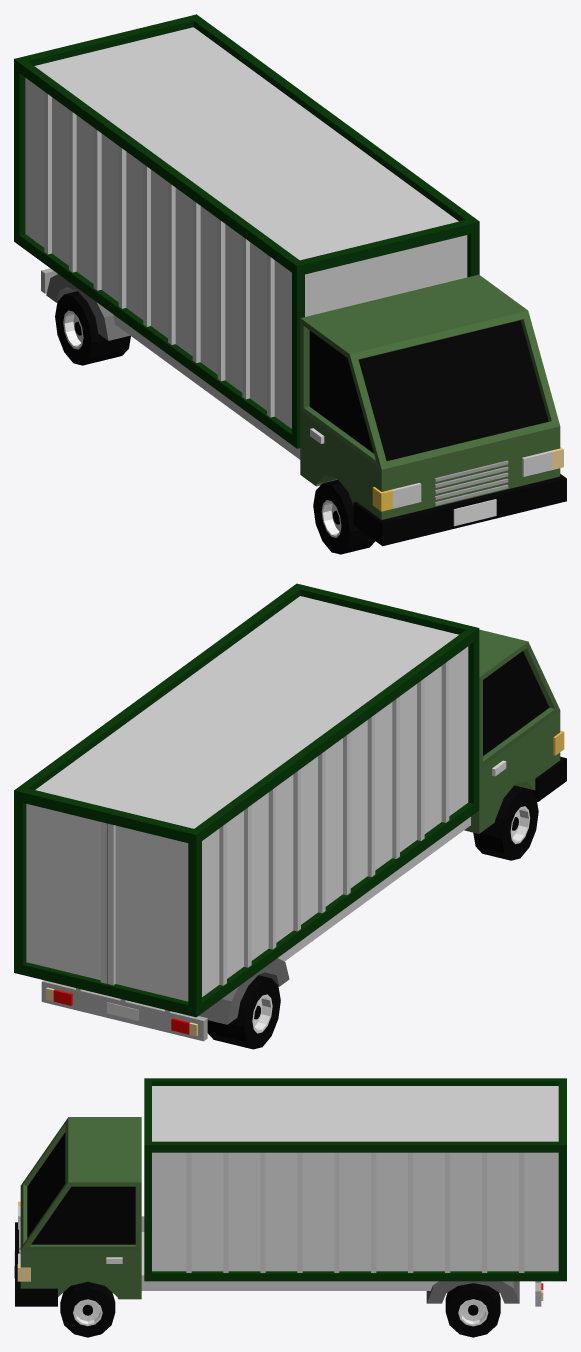
The model's file is Truck-02.fbx.
3 renders of one model, top to bottom at view 1: azimuth 30°, elevation 25°; view 2: azimuth 150°, elevation 25°; view 3: azimuth 270°, elevation 25°, orthographic. The views are drawn at different scales.
Visible parts, largest first — view 1: Truck, BR, FR, Head-Light; view 2: Truck, BR, FR; view 3: Truck, FL, BL.
Part boxes in pixels (x1,y1,x2,y2): Truck: (14,14,566,546); BR: (55,291,130,365); FR: (313,479,375,554); Head-Light: (391,451,552,508); Truck: (14,583,566,1041); BR: (207,975,280,1049); FR: (473,786,538,860); Truck: (14,1078,566,1306); FL: (60,1281,115,1337); BL: (445,1283,500,1337).
Size of the model in its own units: 2.58 by 3.39 by 8.82.
